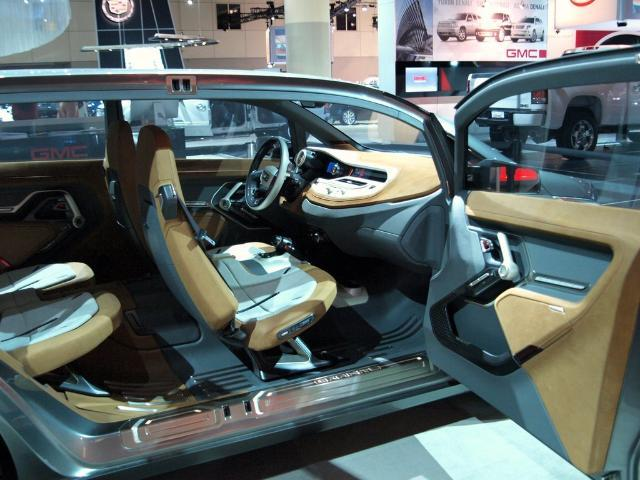Seatbelt: (174, 196, 216, 244)
